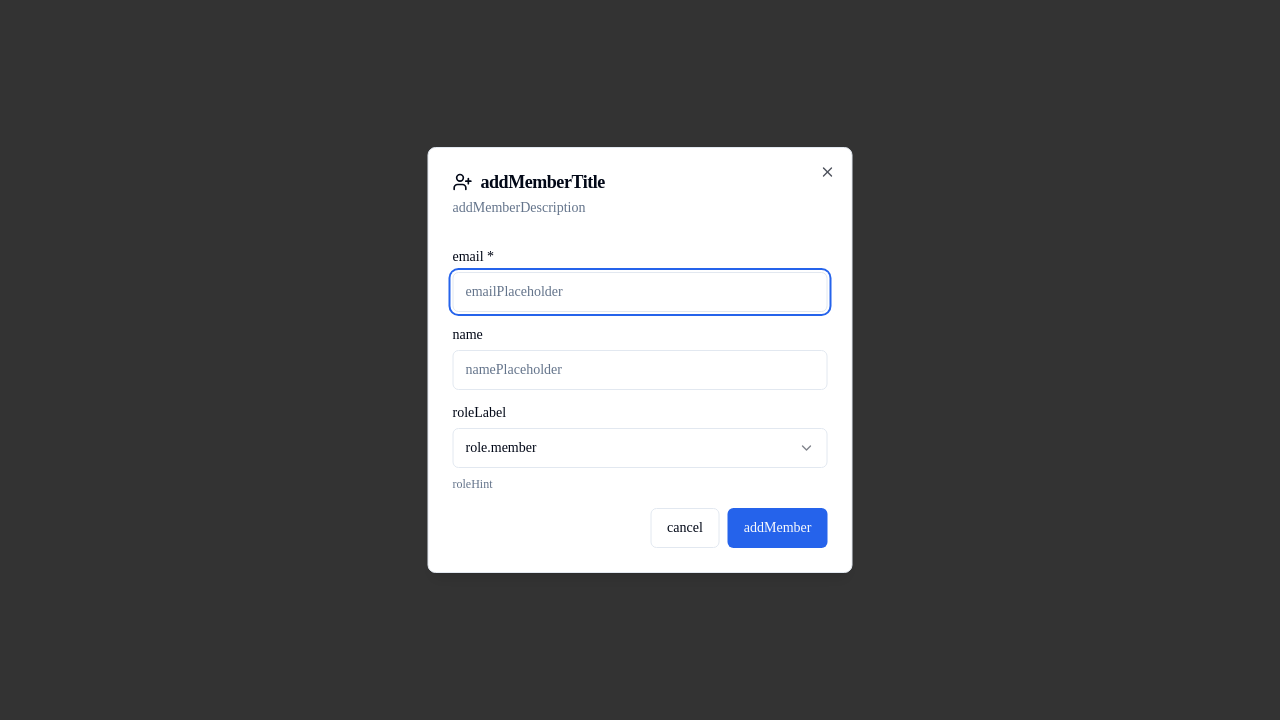
Test: AddMemberDialog › Form Validation › should show error when email is empty
Click the button "addMember".
click(778, 528)  # box [728,508,828,548]
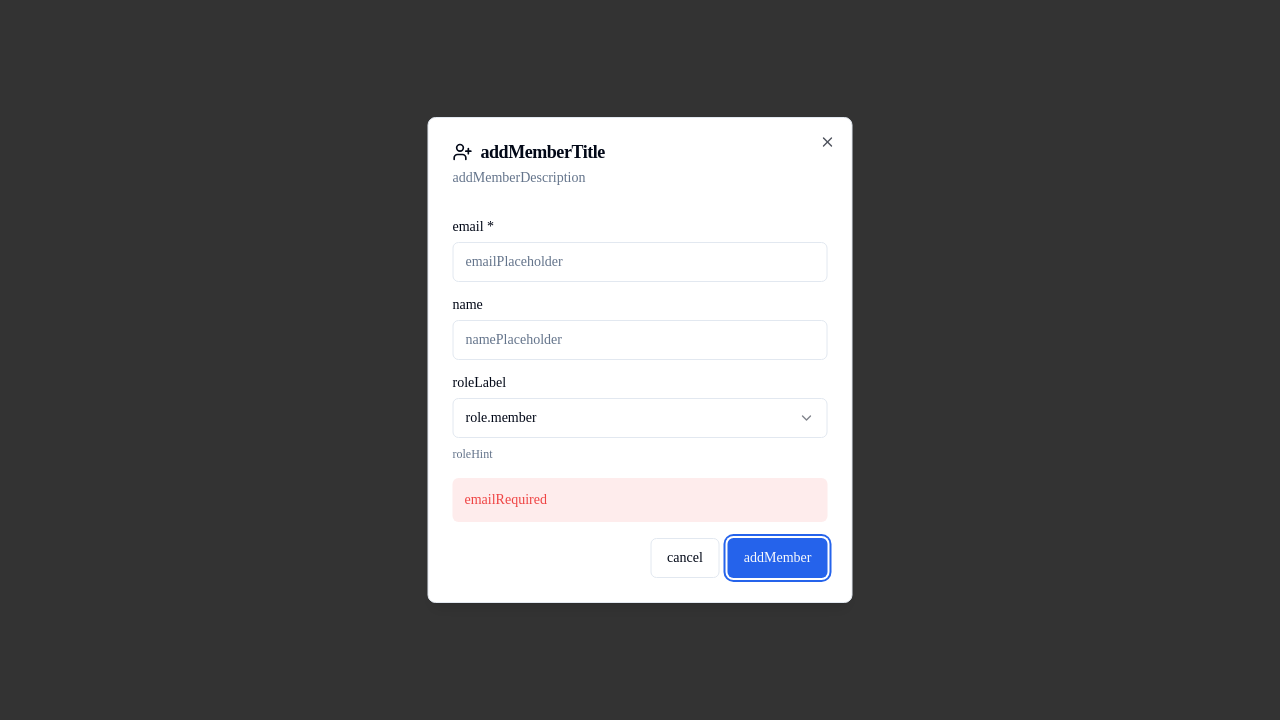
Result: the text "emailRequired" is shown at [452,478,828,522]
